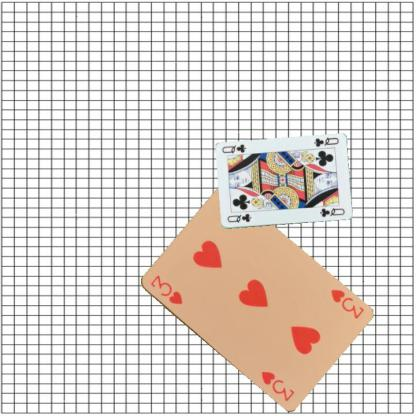3h: (146, 272, 184, 306), (328, 286, 365, 320)
Qc: (311, 135, 340, 149), (224, 211, 252, 224)
